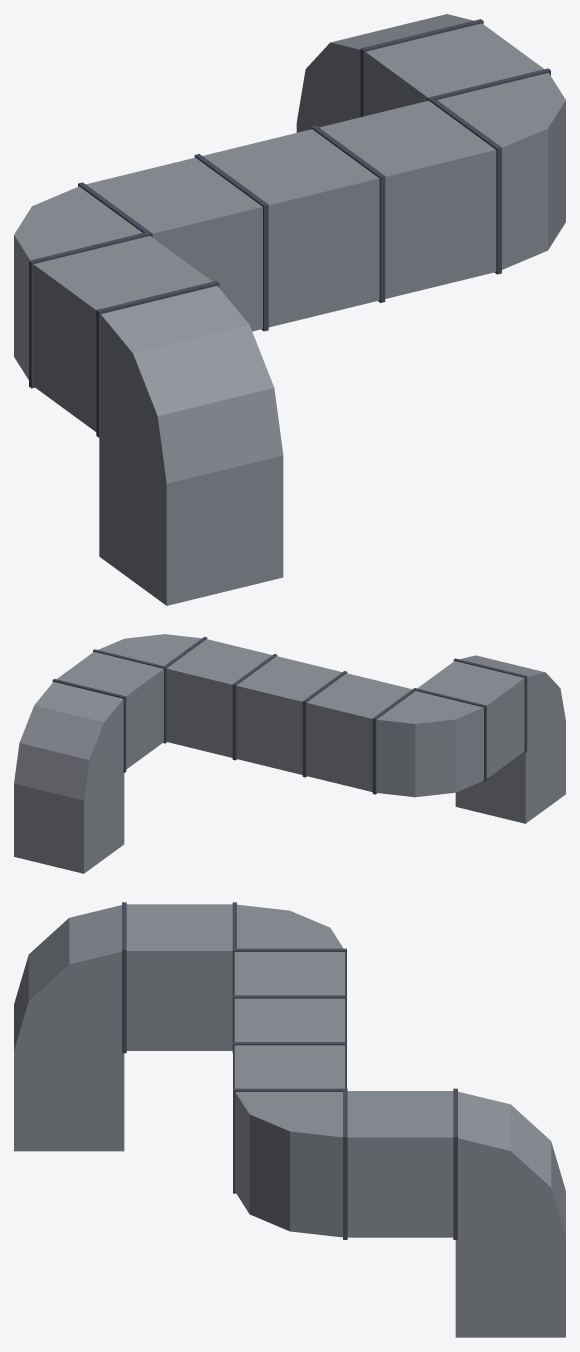
File: SM_BuildingsDecor_26.fbx
3 renders of one model, top to bottom at view 1: azimuth 30°, elevation 25°; view 2: azimuth 150°, elevation 25°; view 3: azimuth 270°, elevation 25°, orthographic. The views are drawn at different scales.
Visible parts, largest first — view 1: SM_BuildingsDecor_26; view 2: SM_BuildingsDecor_26; view 3: SM_BuildingsDecor_26.
Boxes of the visible parts, x1,y1,x2,y2 form: SM_BuildingsDecor_26: (14, 14, 565, 605); SM_BuildingsDecor_26: (14, 634, 565, 873); SM_BuildingsDecor_26: (14, 902, 565, 1337).
Bounding box in the file's own units: 2.41 × 0.9672 × 2.4.
